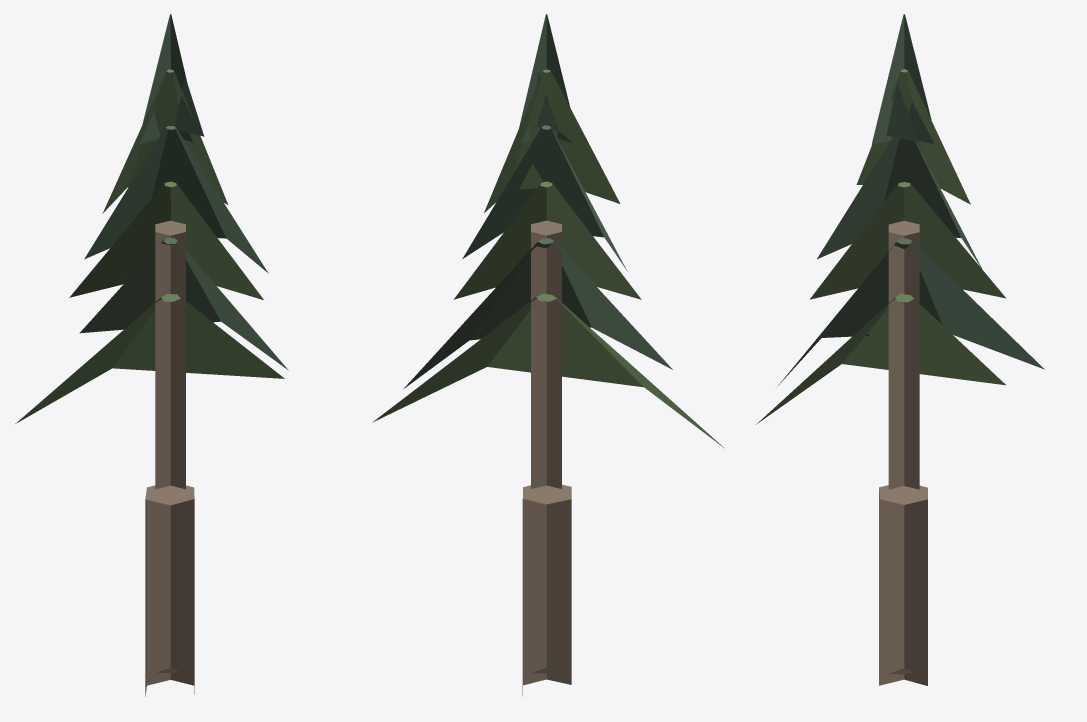
The model's file is shu.masan@subadult__spring.glb.
The picture shows the model from 3 angles, left to right: view 1: azimuth 30°, elevation 25°; view 2: azimuth 150°, elevation 25°; view 3: azimuth 270°, elevation 25°; orthographic projection.
Parts seen in each view (by area): view 1: shu.masan@subadult__spring; view 2: shu.masan@subadult__spring; view 3: shu.masan@subadult__spring.
Part boxes in pixels (<box>): shu.masan@subadult__spring: <box>15,14,288,696</box>; shu.masan@subadult__spring: <box>372,14,724,696</box>; shu.masan@subadult__spring: <box>756,14,1044,685</box>.
Bounding box in the file's own units: 4.69 × 10.33 × 4.39.
